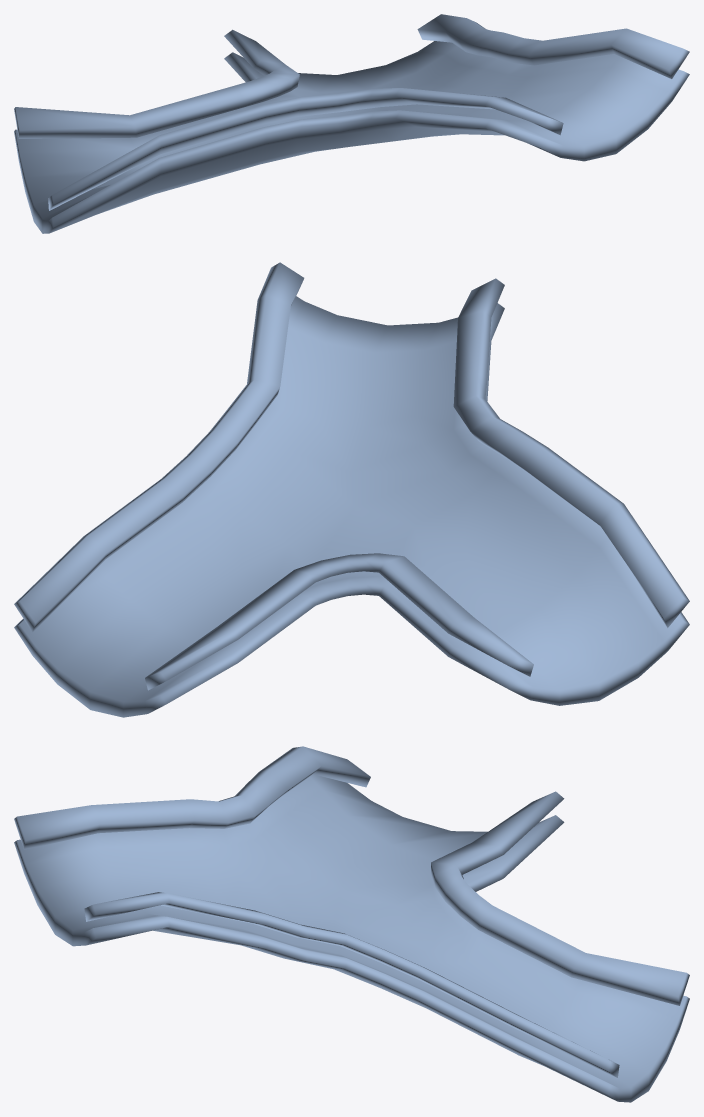
Rendered from junRoadTeeSlope5.fbx.
3 views of the same model, one above another, from view 1: azimuth 30°, elevation 25°; view 2: azimuth 150°, elevation 25°; view 3: azimuth 270°, elevation 25° (orthographic). The views are drawn at different scales.
Visible parts, largest first — view 1: teeSlope5_LOD0, teeSlope5_edge_LOD0; view 2: teeSlope5_LOD0, teeSlope5_edge_LOD0; view 3: teeSlope5_LOD0, teeSlope5_edge_LOD0.
Boxes of the visible parts, box(x1,y1,x2,y2) form: teeSlope5_LOD0: box(14, 41, 689, 233); teeSlope5_edge_LOD0: box(14, 14, 689, 210); teeSlope5_LOD0: box(14, 296, 689, 717); teeSlope5_edge_LOD0: box(14, 262, 689, 690); teeSlope5_LOD0: box(14, 774, 689, 1102); teeSlope5_edge_LOD0: box(14, 746, 689, 1077).
Size of the model in its own units: 1706 by 678 by 1818.
